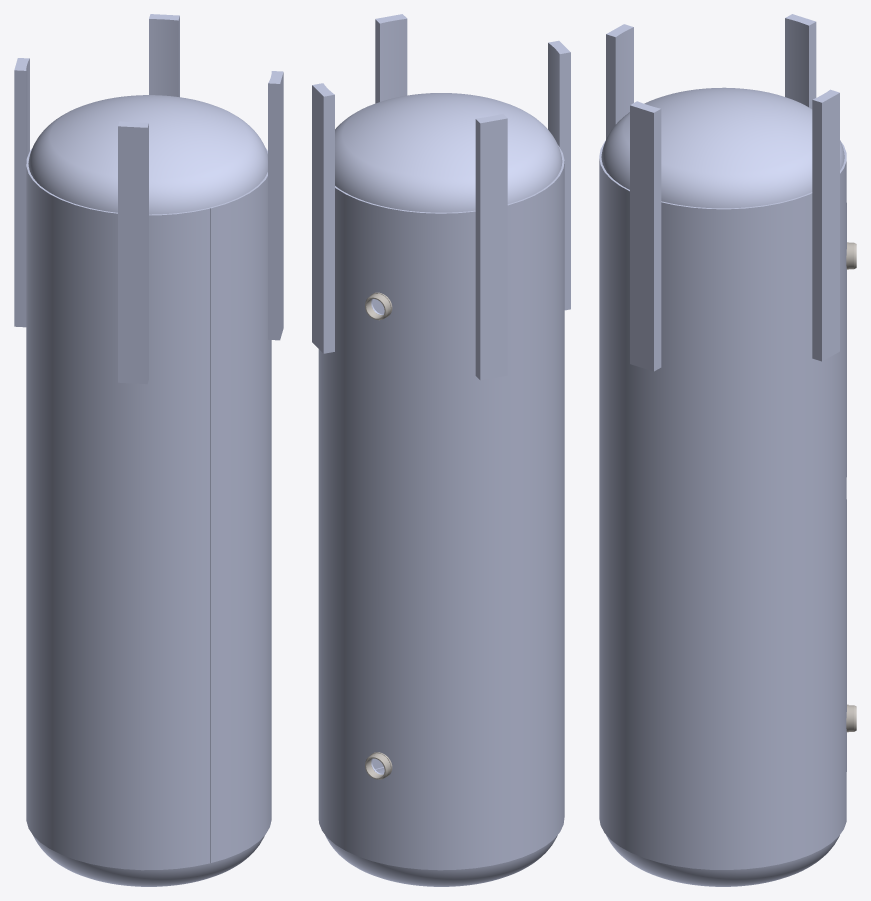
3 views of the same model, side by side, from view 1: azimuth 30°, elevation 25°; view 2: azimuth 150°, elevation 25°; view 3: azimuth 270°, elevation 25° (orthographic).
Parts seen in each view (by area): view 1: color; view 2: color, carbon steel; view 3: color, carbon steel.
Boxes of the visible parts, x1=… form: color: x1=14, y1=14, x2=283, y2=886; color: x1=312, y1=14, x2=570, y2=886; carbon steel: x1=365, y1=292, x2=392, y2=779; color: x1=599, y1=14, x2=846, y2=886; carbon steel: x1=846, y1=242, x2=856, y2=732.
Bounding box in the file's own units: 1.65 × 5.9 × 1.71.
